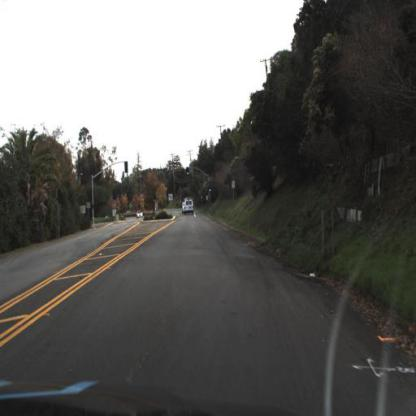car: (183, 198, 199, 217), (137, 208, 146, 221), (136, 210, 144, 223)
trafficLight-Green: (206, 178, 213, 201), (185, 163, 193, 183), (211, 183, 218, 196), (185, 168, 191, 181)
